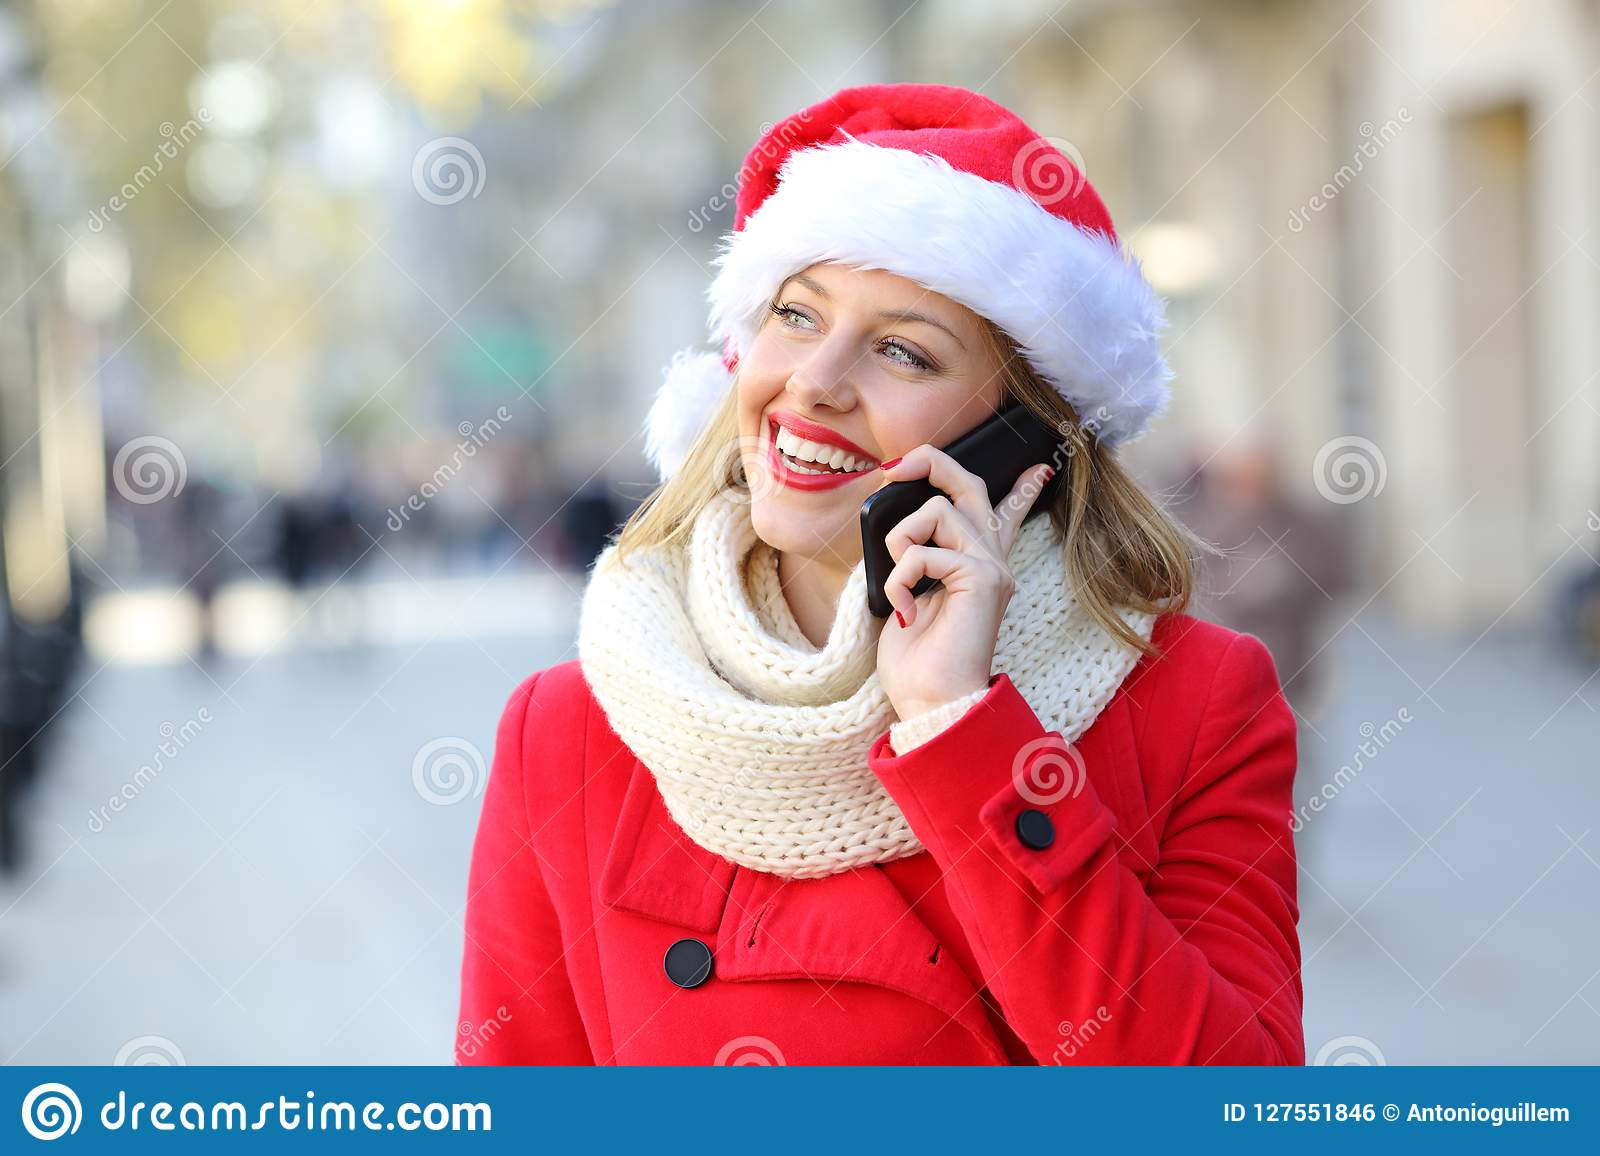phone: (853, 399, 1076, 632)
talk: (735, 266, 1081, 692)
